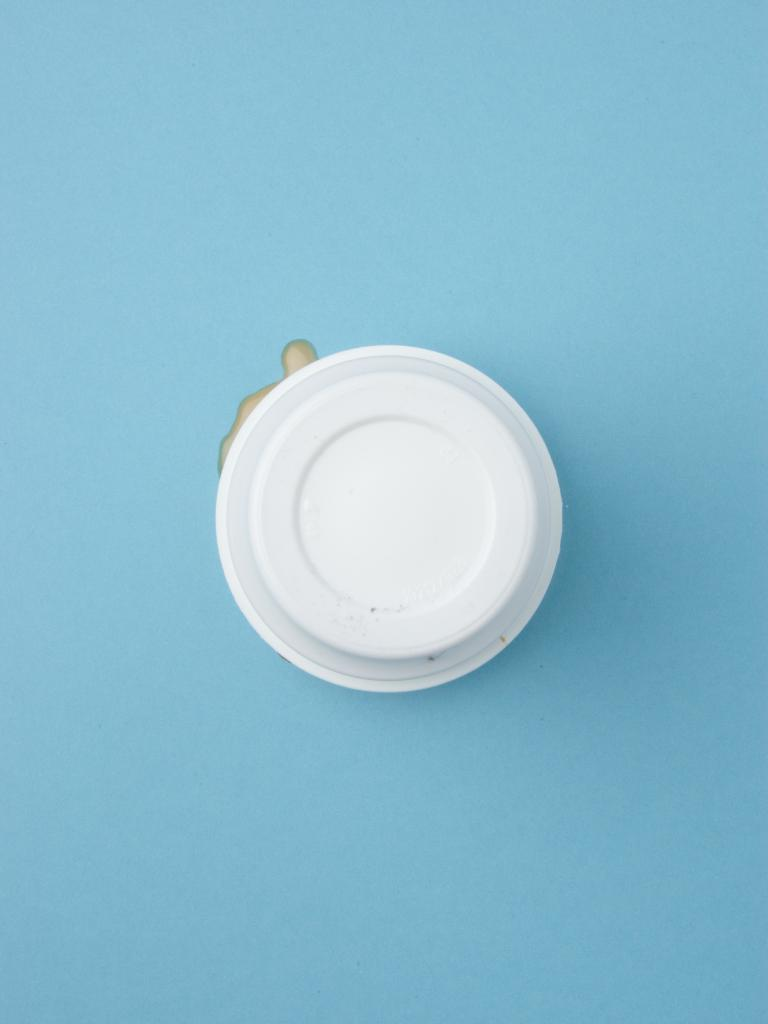plate: (224, 322, 545, 666)
